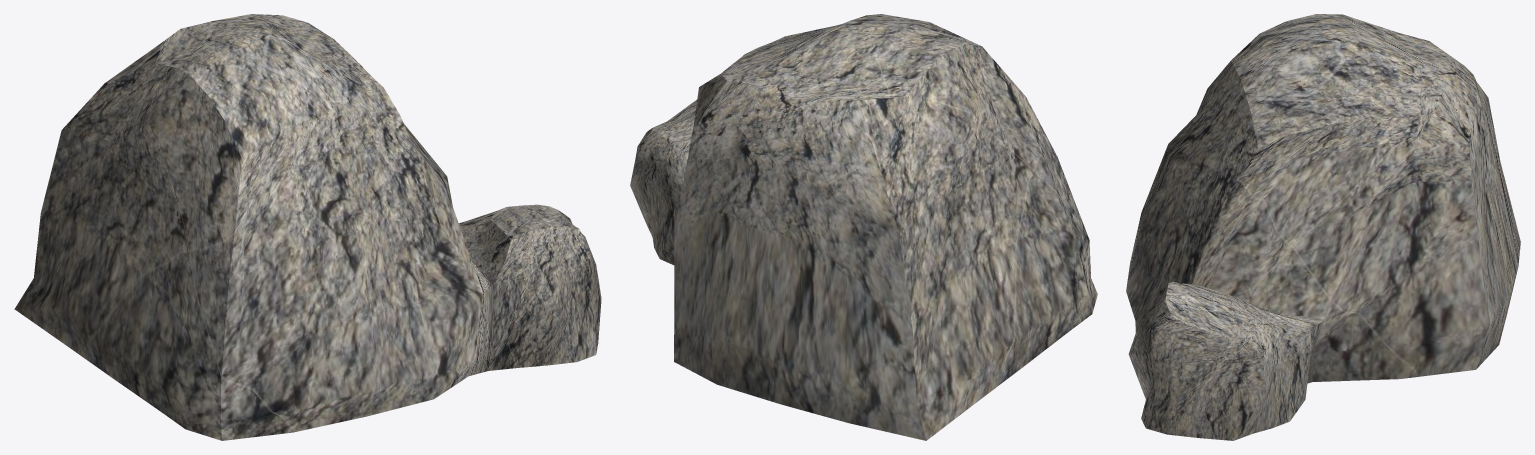
File: iwa.fbx
The picture shows the model from 3 angles, left to right: view 1: azimuth 30°, elevation 25°; view 2: azimuth 150°, elevation 25°; view 3: azimuth 270°, elevation 25°; orthographic projection. The views are drawn at different scales.
Visible parts, largest first — view 1: pCube3; view 2: pCube3; view 3: pCube3.
Part boxes in pixels (<box>): pCube3: <box>14,14,601,440</box>; pCube3: <box>630,14,1097,440</box>; pCube3: <box>1126,14,1520,440</box>.
Bounding box in the file's own units: 5.43 × 3.69 × 4.68.
